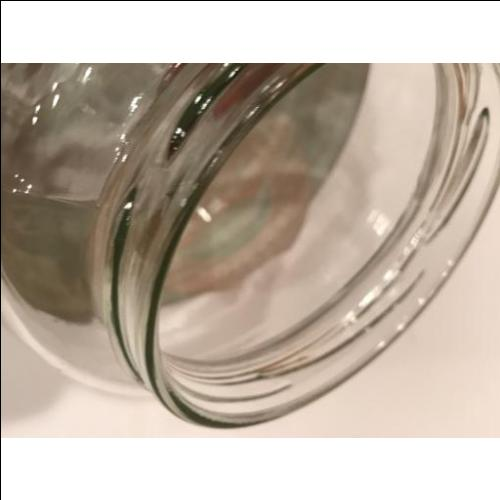glass: (0, 60, 499, 428)
